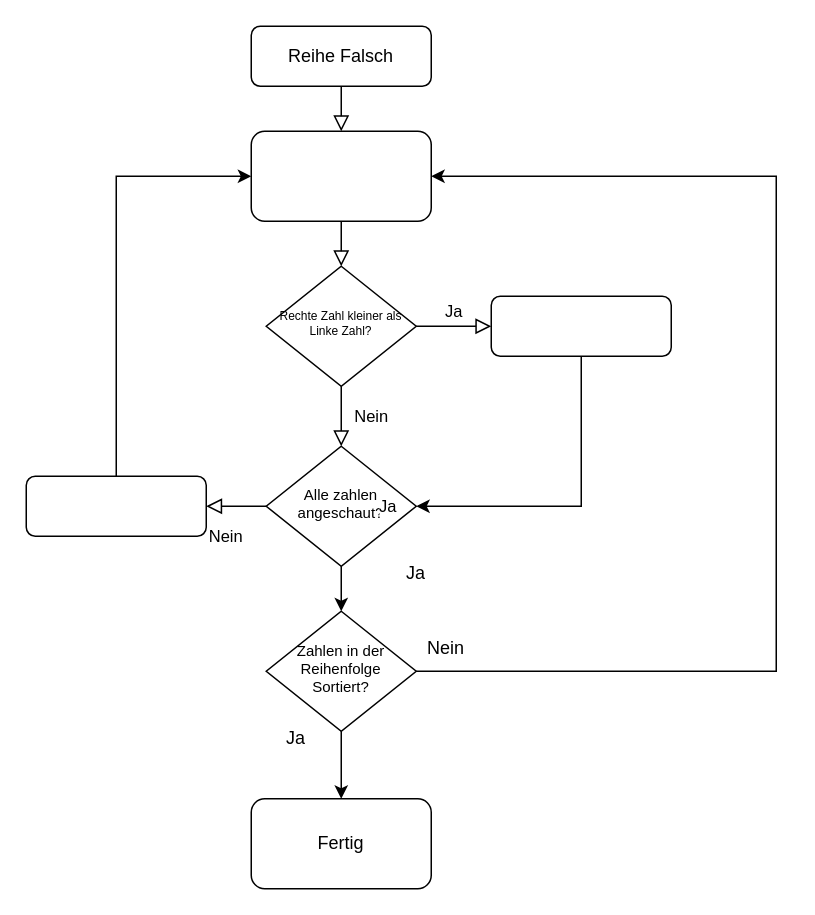
Some shapes in this 815 by 915 pixel diagram are drawn without their labels. The shapes that lost their labels are listed below. From the top down, each one's box as (x1, y1, x2, y2) in pixels, then its label:
(250, 130, 431, 221): 1. und 2. Zahl im Fokus
(490, 295, 671, 356): Zahl wechseln
(25, 475, 206, 536): Nächste Zahl anschauen
